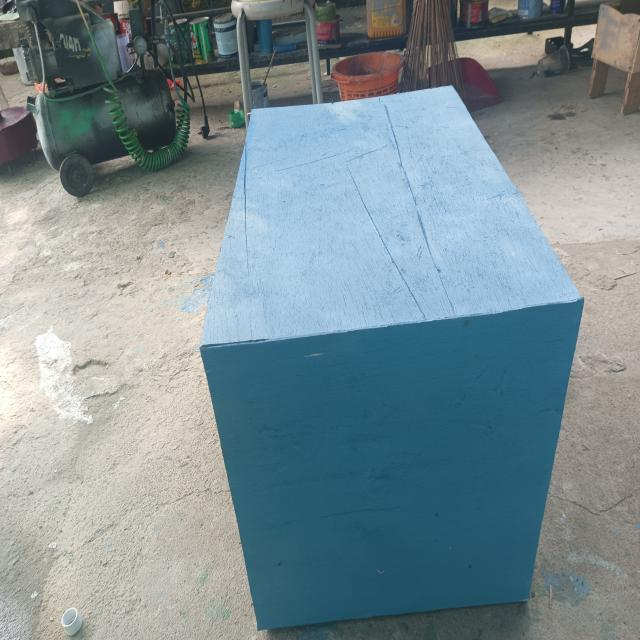blue_box: (202, 80, 554, 607)
